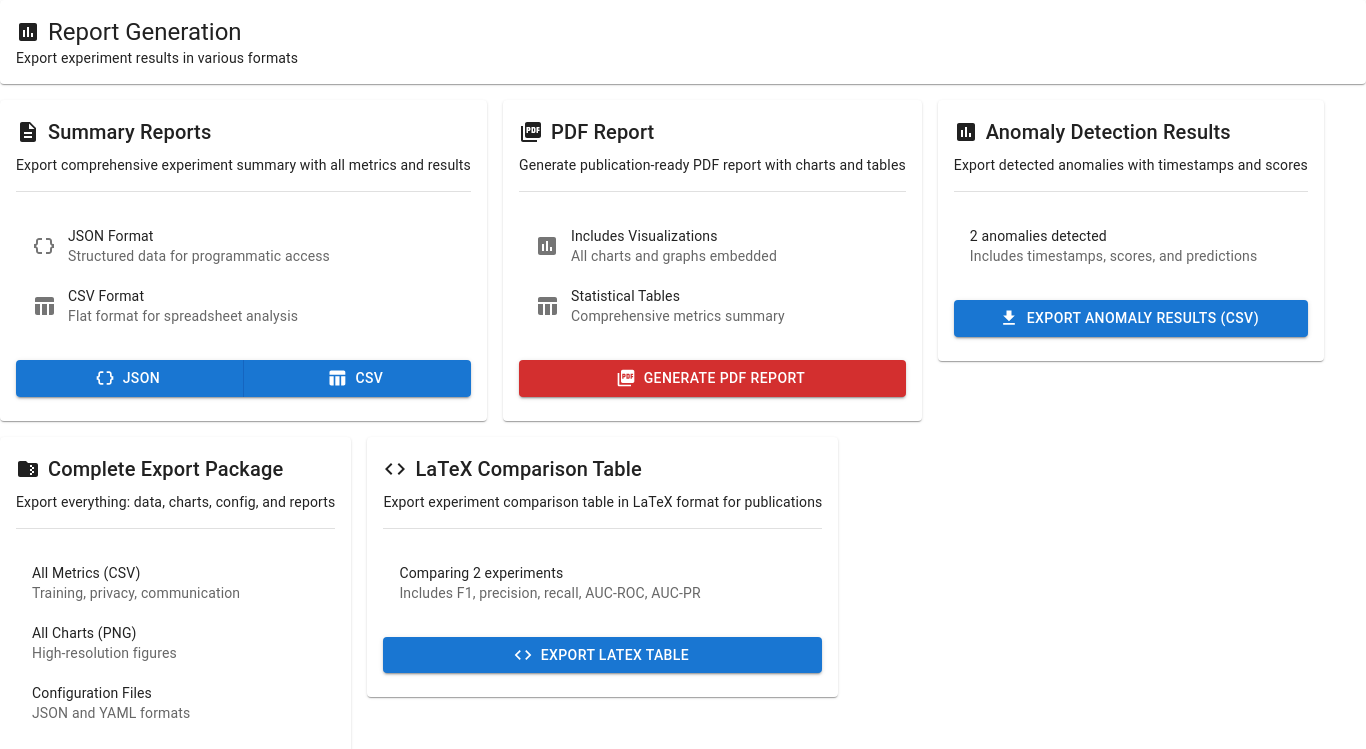
ReportGeneration › LaTeX Comparison Export › should export comparison table
Click the button "Export LaTeX Table".
click(603, 655)  # box [383, 637, 822, 673]
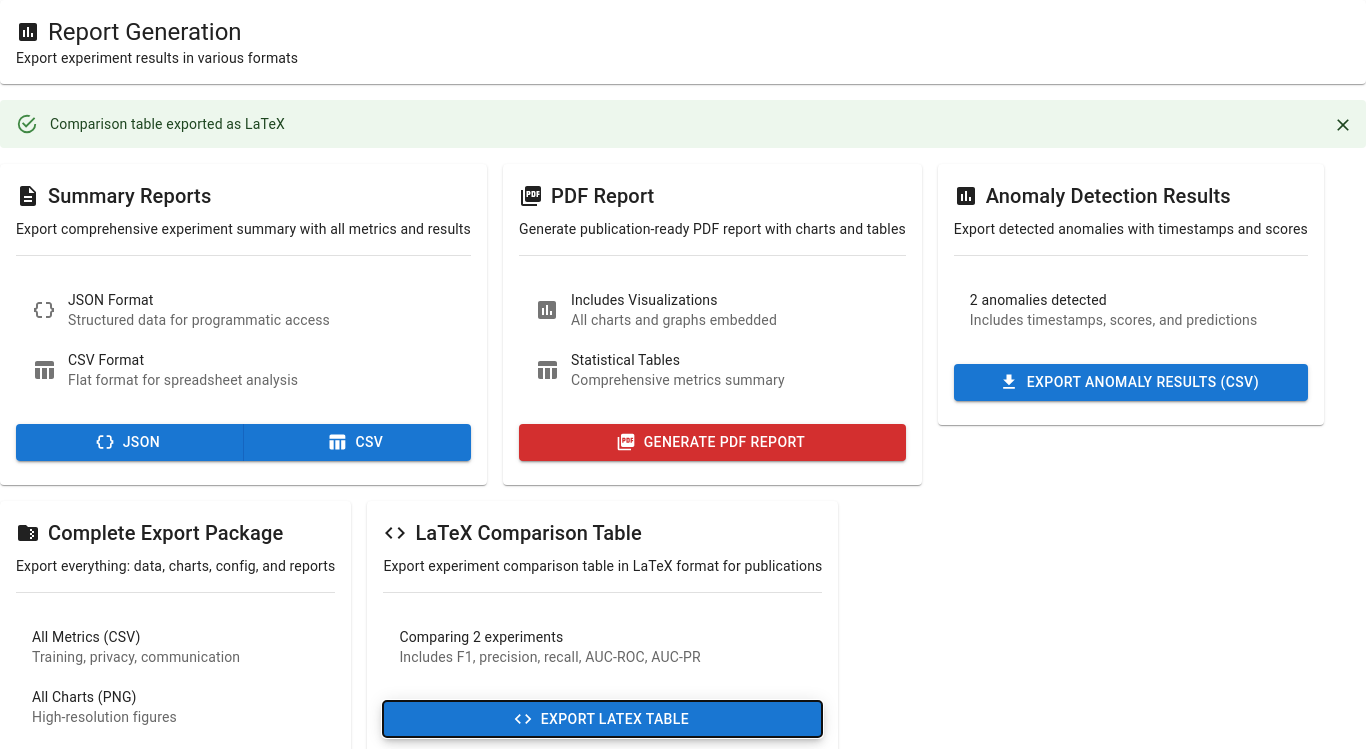
Result: the text "Comparison table exported as LaTeX" is shown at [50, 116, 285, 132]
